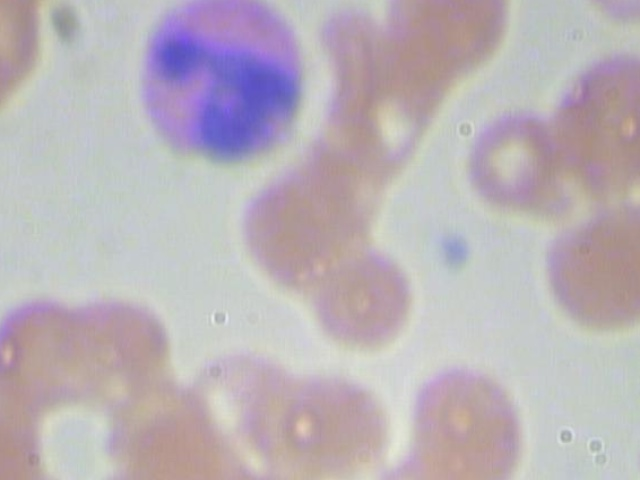Platelets: (430, 223, 475, 279)
WBC: (118, 0, 318, 175)
